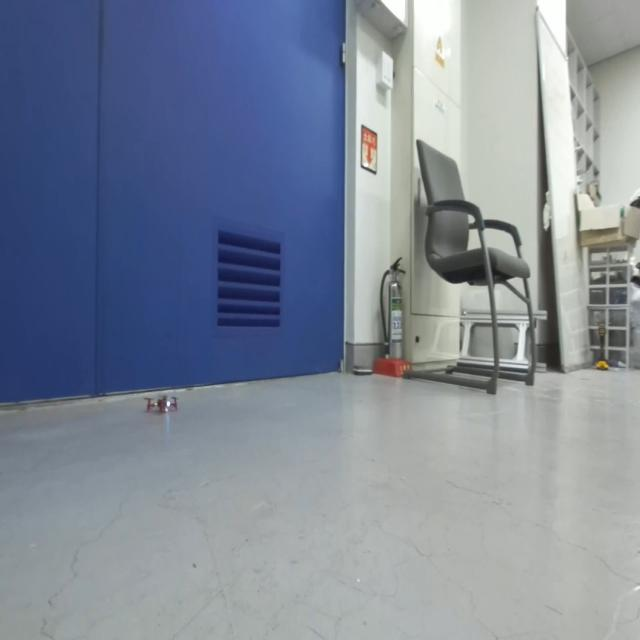crazyflie: (142, 391, 181, 418)
